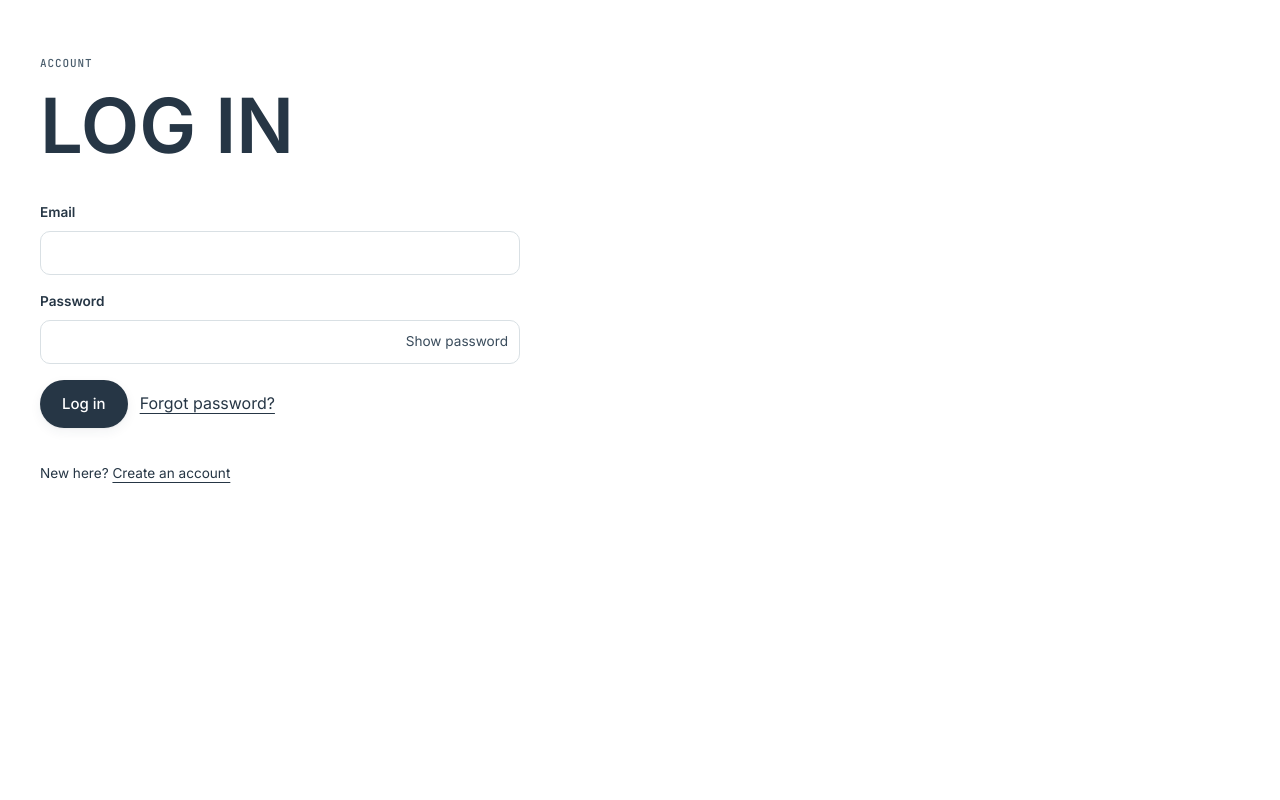
Scenario: login page: guest with saved pieces › a failed "Log in anyway" closes the warning and shows the generic error, keeping what was typed
The image size is (1280, 800).
Type "a@b.co" into the field labelled "Email". click: (280, 253)
box: x1=40 y1=231 x2=520 y2=275
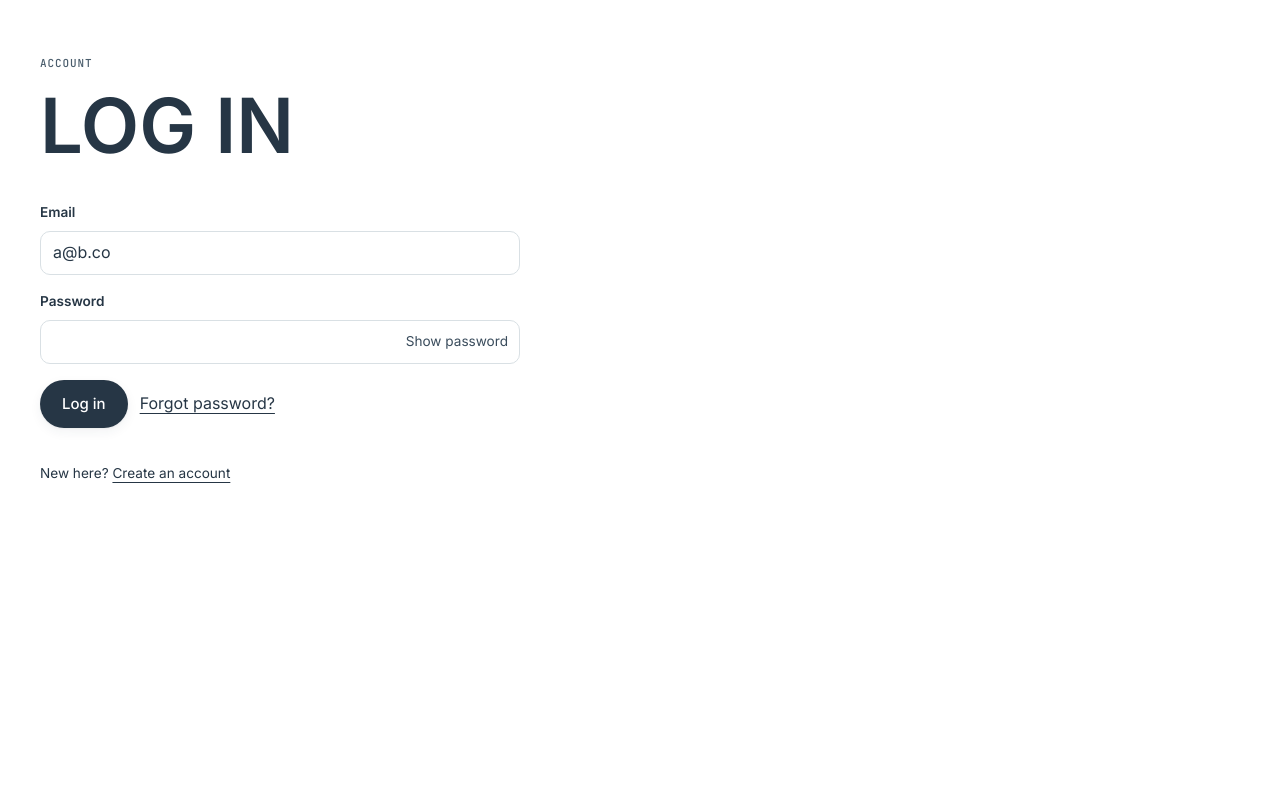
Type "wrongpass1" into the password field labelled "Password". click: (280, 342)
box: x1=40 y1=320 x2=520 y2=364
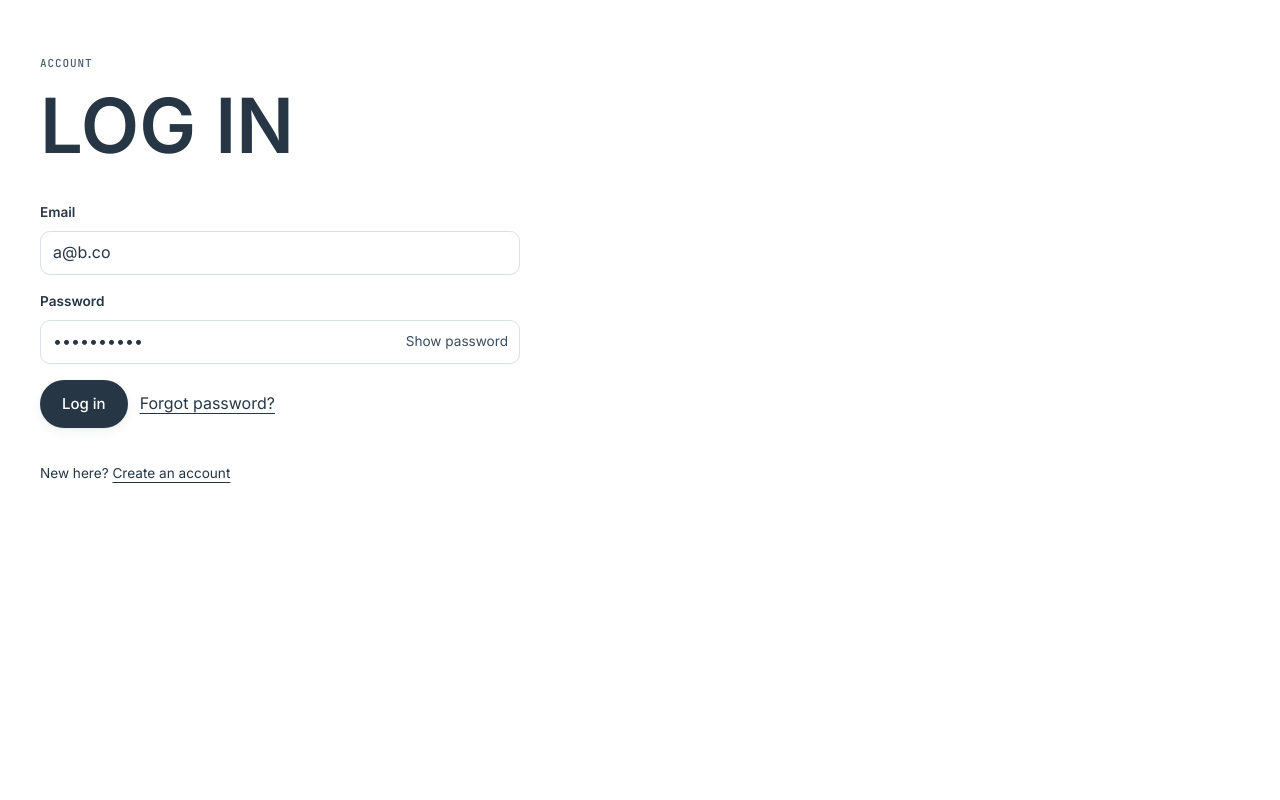
Click the button "Log in". click: (84, 404)
box: x1=40 y1=380 x2=128 y2=428
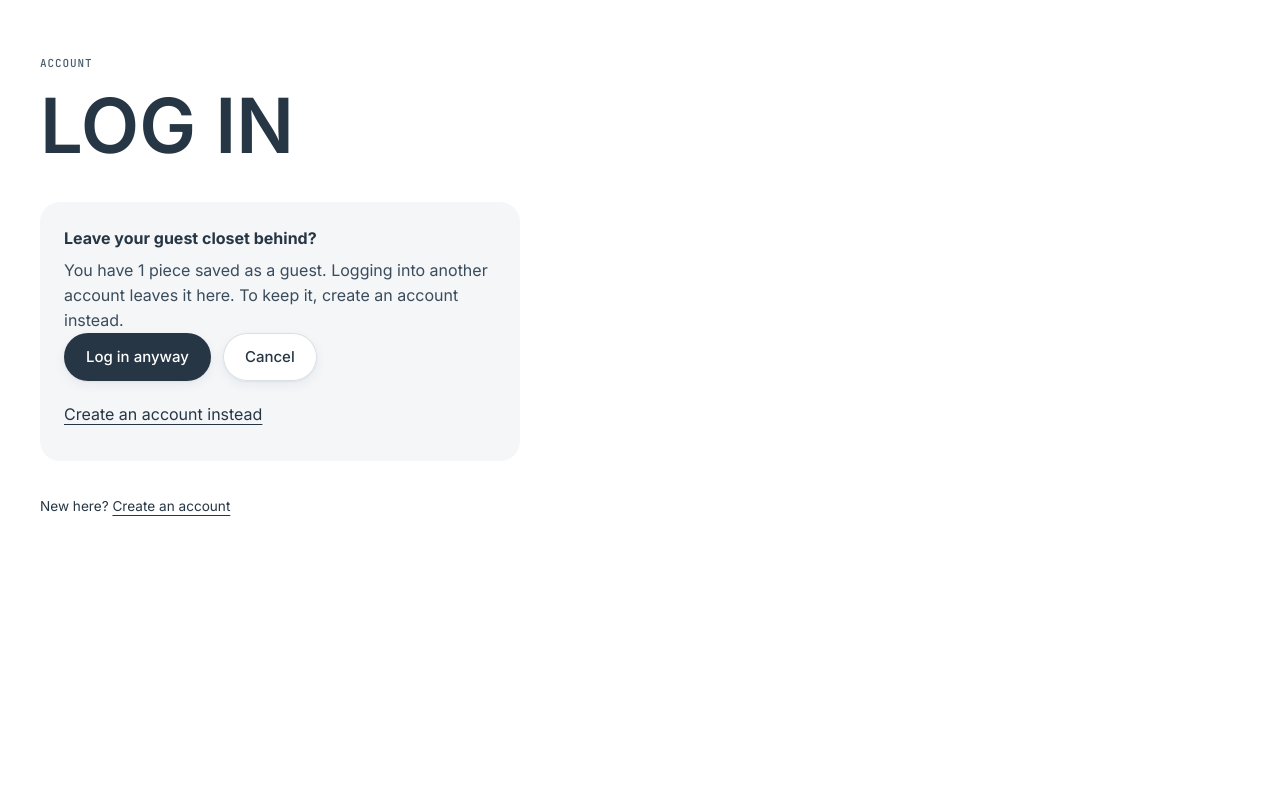
Click the button "Log in anyway". click: (137, 357)
box: x1=64 y1=333 x2=211 y2=381
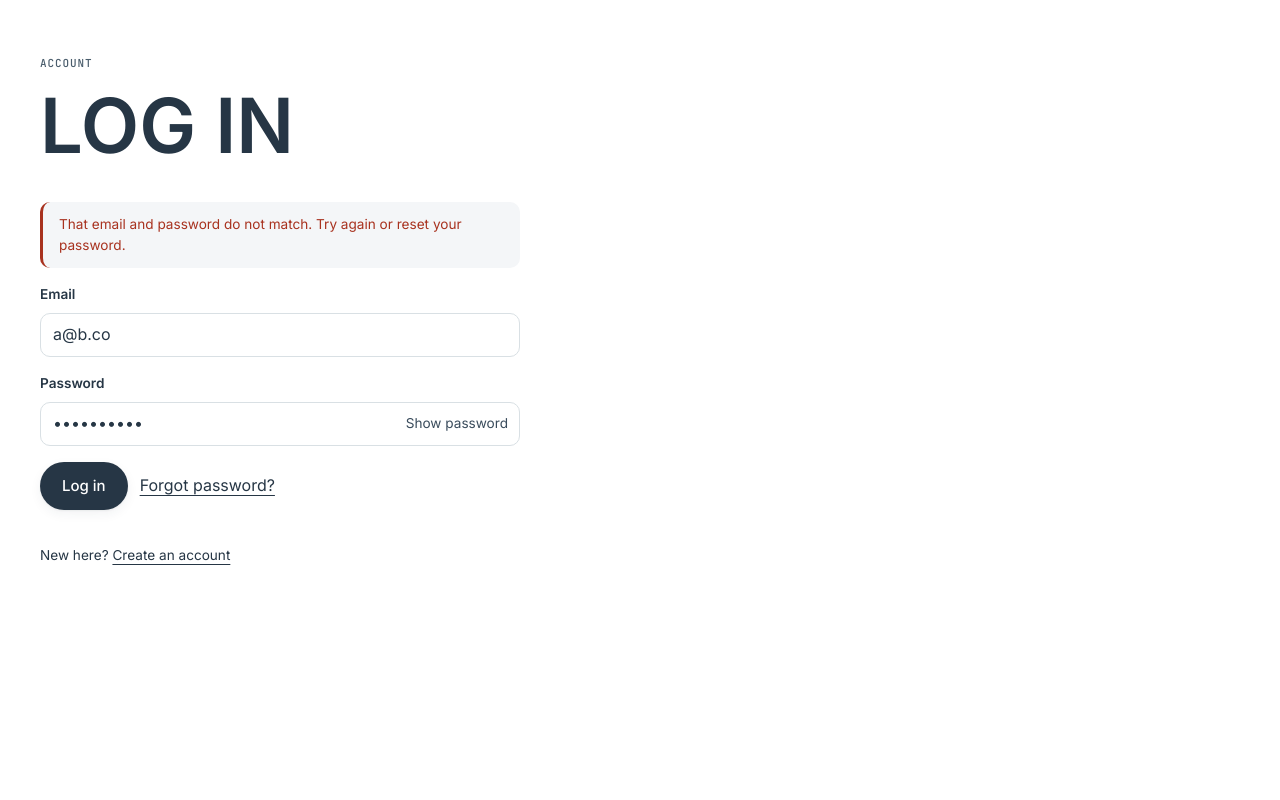
Result: the message reads "That email and password do not match. Try again or reset your password." at x1=59 y1=216 x2=462 y2=253
Result: the dialog is gone
Result: the field labelled "Email" holds "a@b.co" at x1=40 y1=313 x2=520 y2=357
